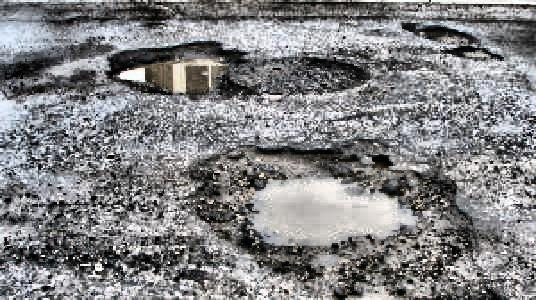pothole: (189, 140, 475, 299), (103, 38, 226, 98), (402, 20, 469, 45), (445, 45, 503, 62)
